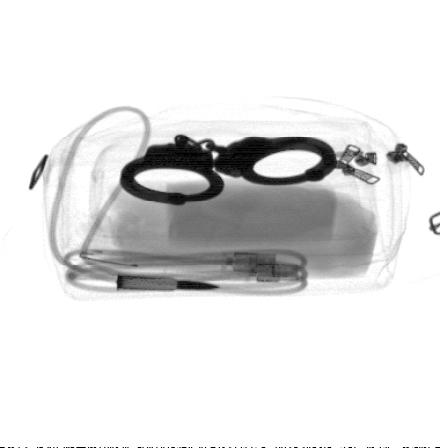Bullet: (118, 277, 222, 291)
HandCuffs: (118, 133, 337, 206)
